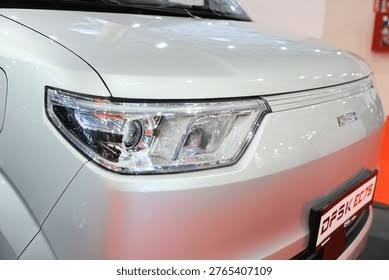car: (5, 1, 387, 270)
